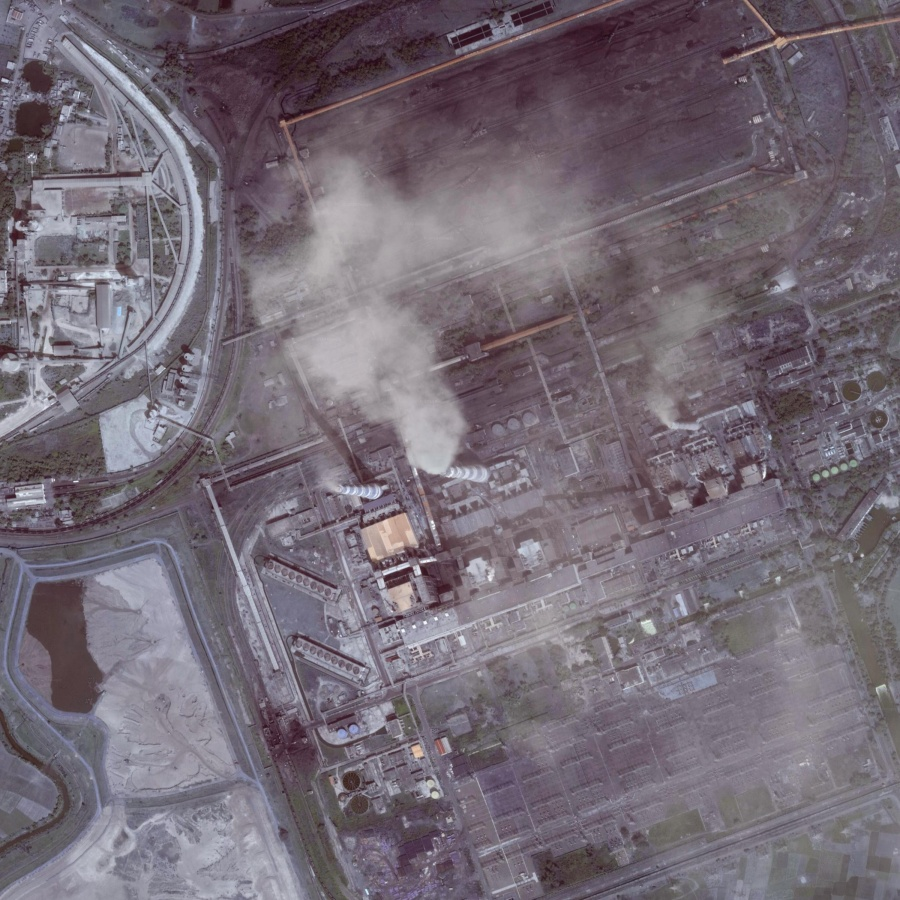PowerPlant: (285, 345, 769, 656)
